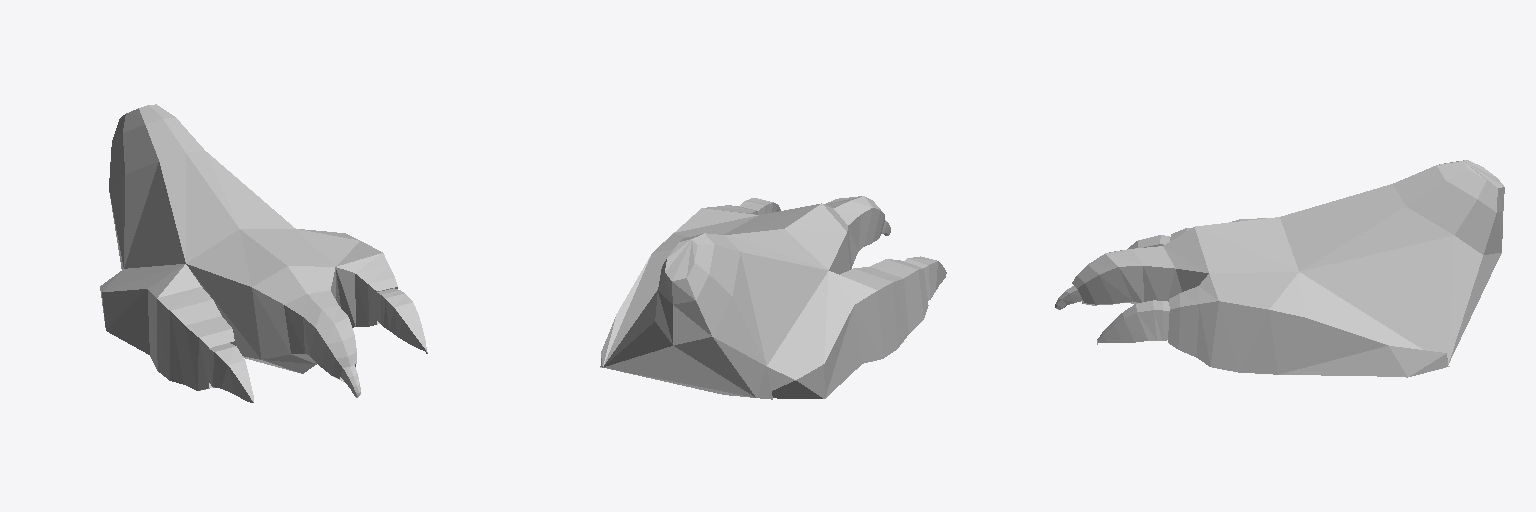
File: spinosaurusOfficialLeftFoot.obj
3 views of the same model, side by side, from view 1: azimuth 30°, elevation 25°; view 2: azimuth 150°, elevation 25°; view 3: azimuth 270°, elevation 25° (orthographic).
Visible parts, largest first — view 1: LeftFoot_Cube.001; view 2: LeftFoot_Cube.001; view 3: LeftFoot_Cube.001.
Part boxes in pixels (x1,y1,x2,y2): LeftFoot_Cube.001: (100,104,427,402); LeftFoot_Cube.001: (600,196,946,399); LeftFoot_Cube.001: (1055,160,1504,377).
Bounding box in the file's own units: 0.6809 × 0.5288 × 1.23.